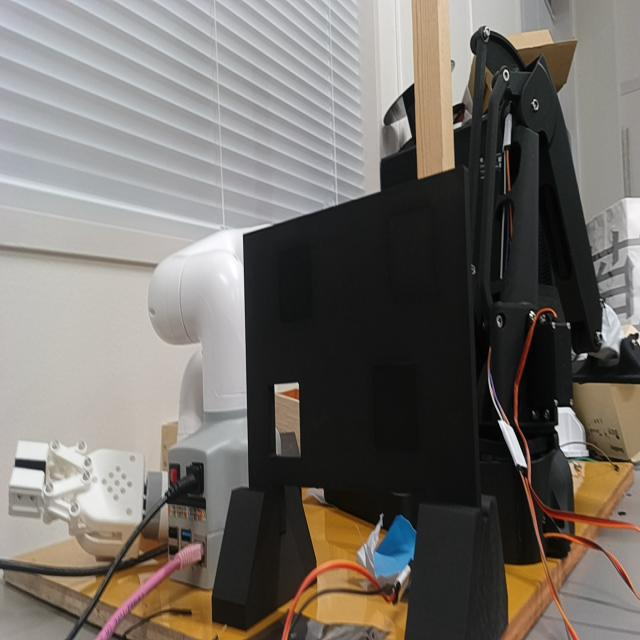Wall: (244, 166, 473, 488), (274, 380, 302, 457)
